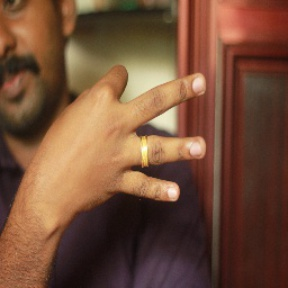K: (36, 60, 208, 209)
